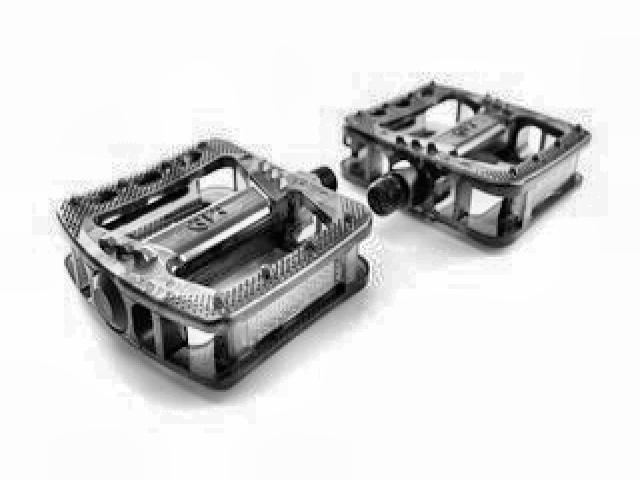pedal: (52, 130, 374, 396), (337, 73, 591, 255)
